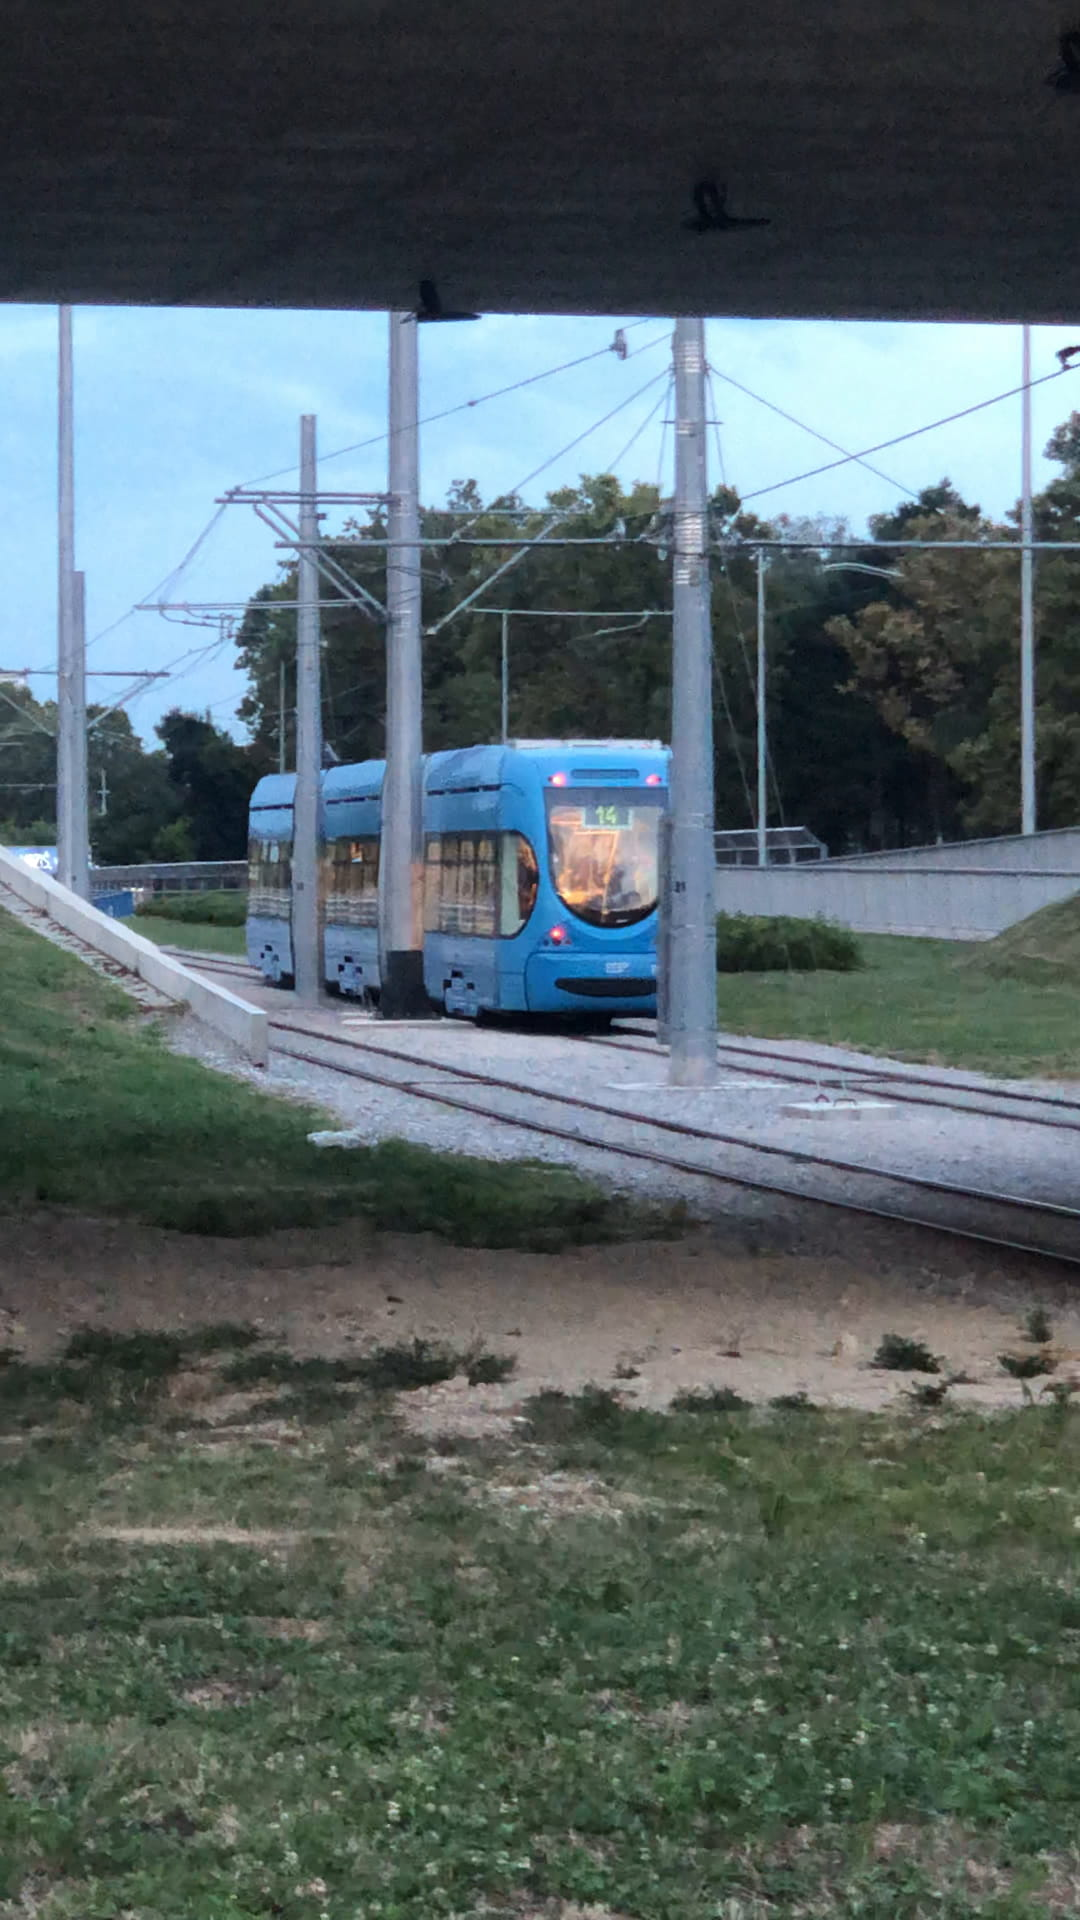tramvaj: (240, 731, 678, 1027)
